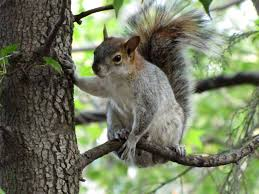Ardilla: (68, 24, 189, 166)
